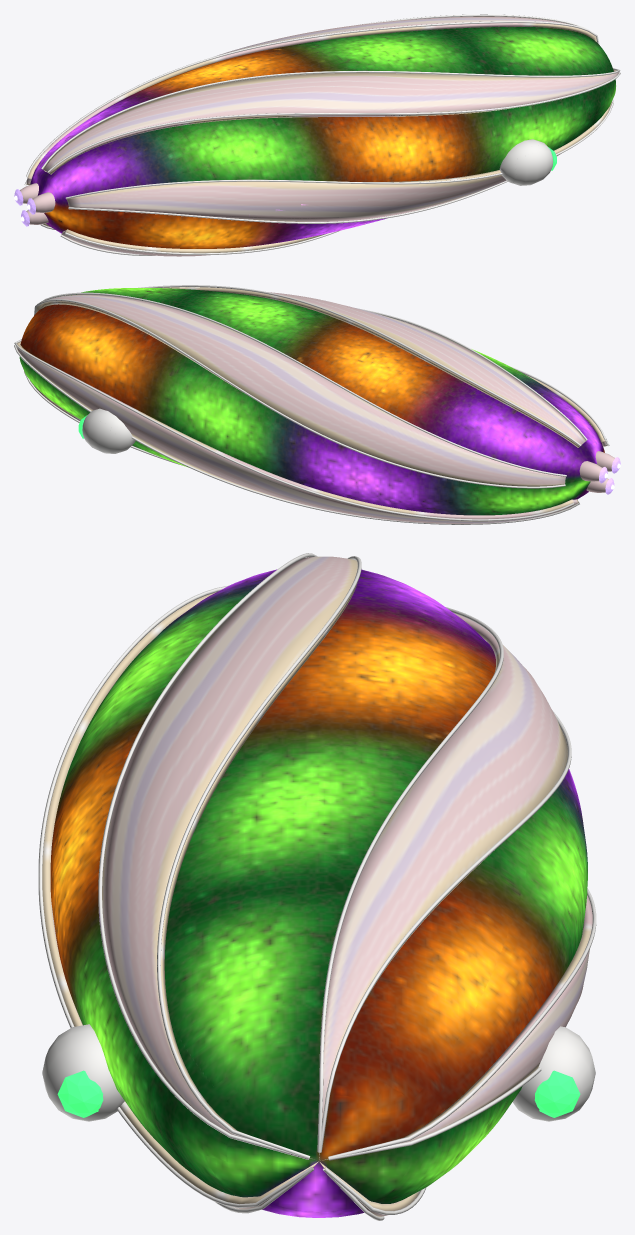
The model's file is ithar_GB1.gltf.
3 views of the same model, one above another, from view 1: azimuth 30°, elevation 25°; view 2: azimuth 150°, elevation 25°; view 3: azimuth 270°, elevation 25° (orthographic). The views are drawn at different scales.
Parts seen in each view (by area): view 1: ithar_GB1; view 2: ithar_GB1; view 3: ithar_GB1.
Part boxes in pixels (<box>): ithar_GB1: <box>14,14,620,256</box>; ithar_GB1: <box>14,285,620,524</box>; ithar_GB1: <box>38,553,596,1220</box>.
Size of the model in its own units: 1 by 0.2653 by 0.4153.
Materials: 5 (2 with a texture image).
